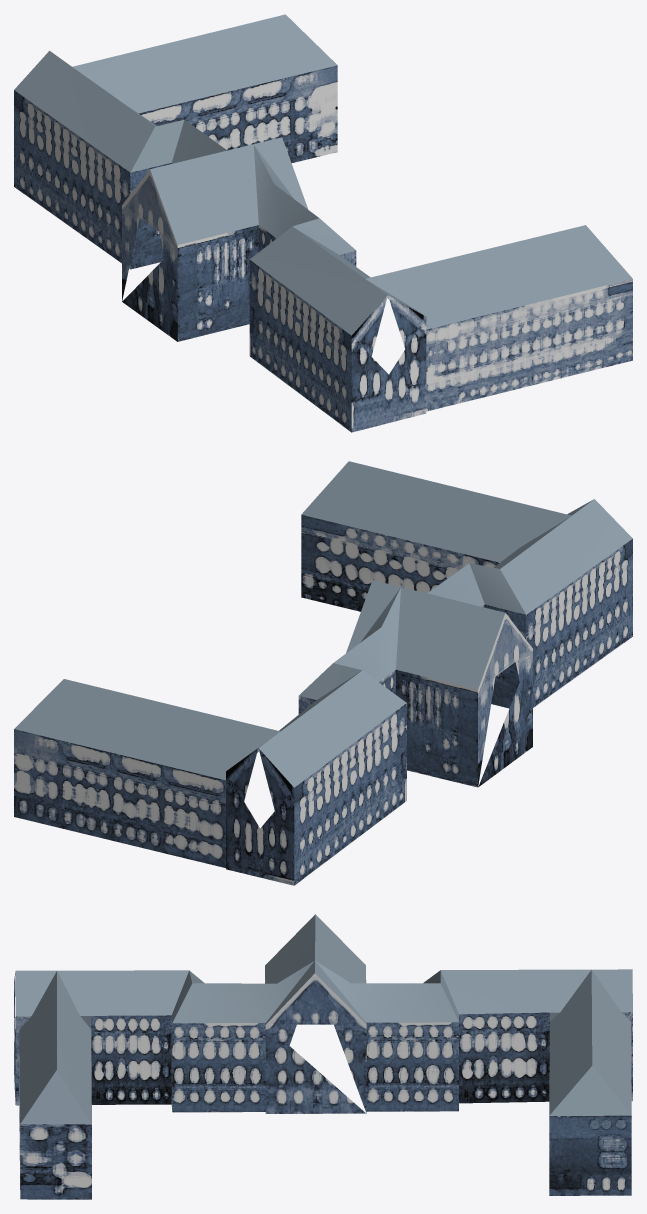
File: Fritz-Foester-Bau.gltf
The picture shows the model from 3 angles, top to bottom: view 1: azimuth 30°, elevation 25°; view 2: azimuth 150°, elevation 25°; view 3: azimuth 270°, elevation 25°; orthographic projection. The views are drawn at different scales.
Parts seen in each view (by area): view 1: Dach.1; view 2: Dach.1; view 3: Dach.1.
Part boxes in pixels (x1=…): Dach.1: x1=14, y1=14, x2=632, y2=432; Dach.1: x1=14, y1=461, x2=632, y2=885; Dach.1: x1=14, y1=914, x2=632, y2=1199.
Size of the model in its own units: 67.71 by 30.51 by 122.
21 materials, 20 textured.
